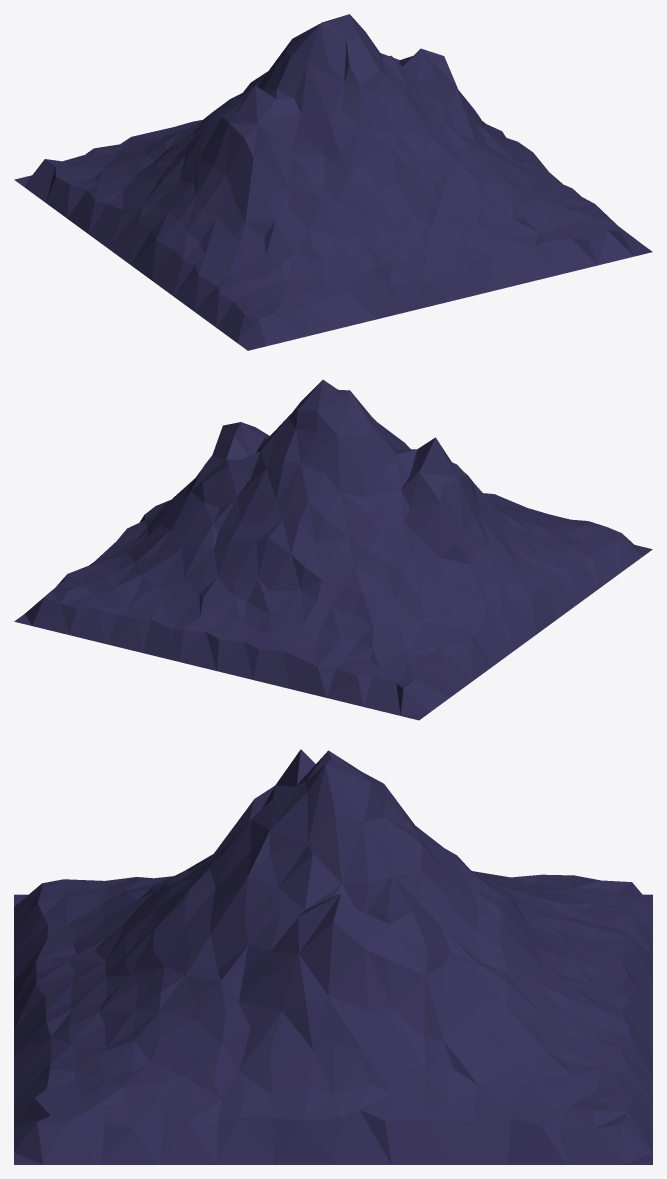
The model's file is frost_peak_b.glb.
3 views of the same model, one above another, from view 1: azimuth 30°, elevation 25°; view 2: azimuth 150°, elevation 25°; view 3: azimuth 270°, elevation 25° (orthographic). The views are drawn at different scales.
Visible parts, largest first — view 1: PeakB; view 2: PeakB; view 3: PeakB.
Part boxes in pixels (x1,y1,x2,y2): PeakB: [14, 14, 652, 350]; PeakB: [14, 379, 652, 720]; PeakB: [14, 749, 652, 1164].
Size of the model in its own units: 140 by 66.26 by 140.
